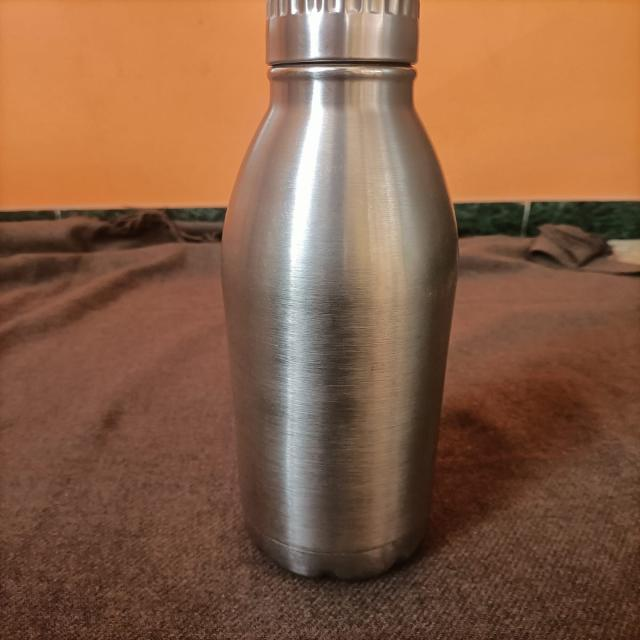bottle: (150, 0, 515, 603)
